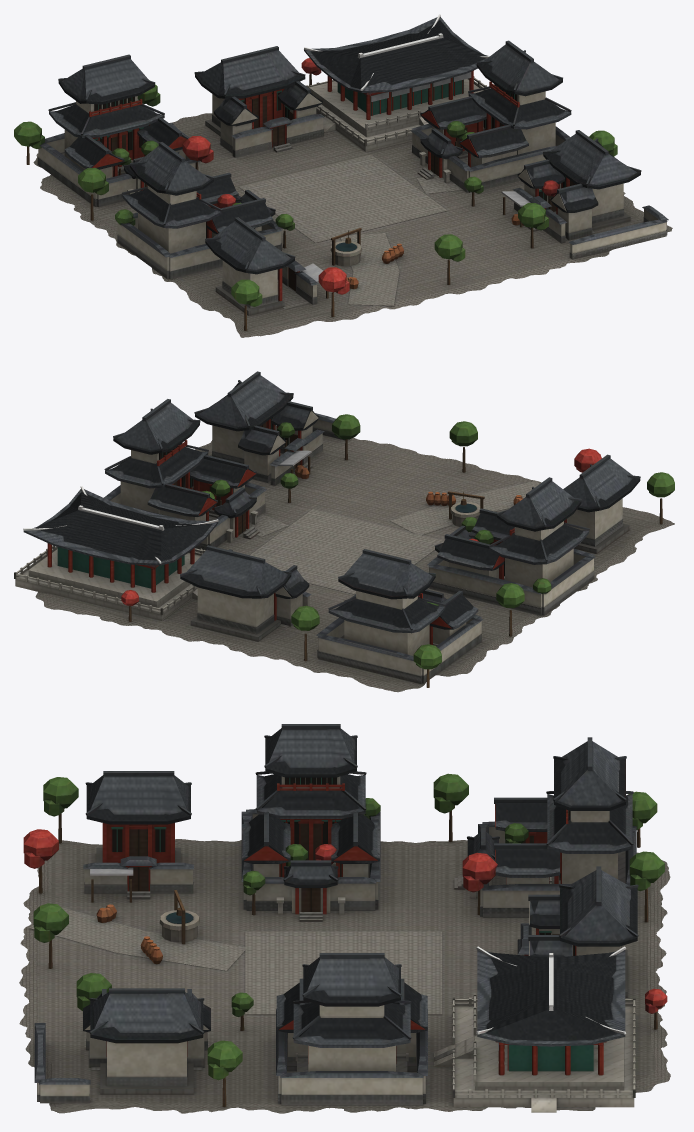
Rendered from kingdoms-town-small-b-korea.glb.
The picture shows the model from 3 angles, top to bottom: view 1: azimuth 30°, elevation 25°; view 2: azimuth 150°, elevation 25°; view 3: azimuth 270°, elevation 25°; orthographic projection. The views are drawn at different scales.
Visible parts, largest first — view 1: LOD0; view 2: LOD0; view 3: LOD0.
Part boxes in pixels (bbox=[...]): LOD0: bbox=[14, 14, 672, 337]; LOD0: bbox=[14, 371, 674, 692]; LOD0: bbox=[19, 724, 670, 1113].
Size of what is drawn, in the model's own units: 4.04 by 0.9214 by 4.06.
Materials: 3 (3 with a texture image).
